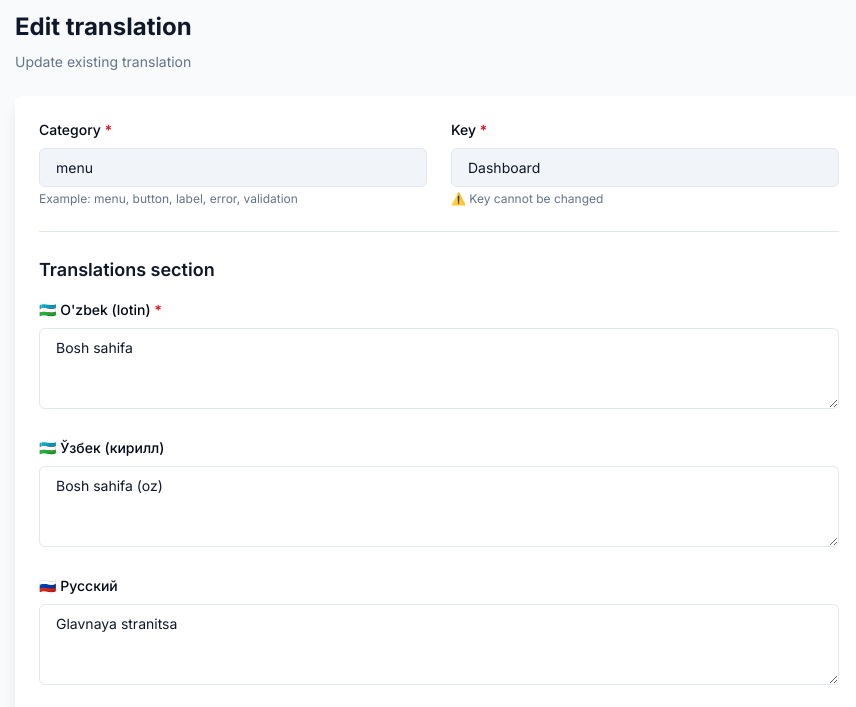
Test case: TranslationFormPage › clears similar translations when text is emptied
// Type text to trigger similar search
Replace the text in the text box with placeholder "Primary text (uz-UZ)" with "Bosh sahifa qis" at x=439, y=368, box [39,328,839,409]
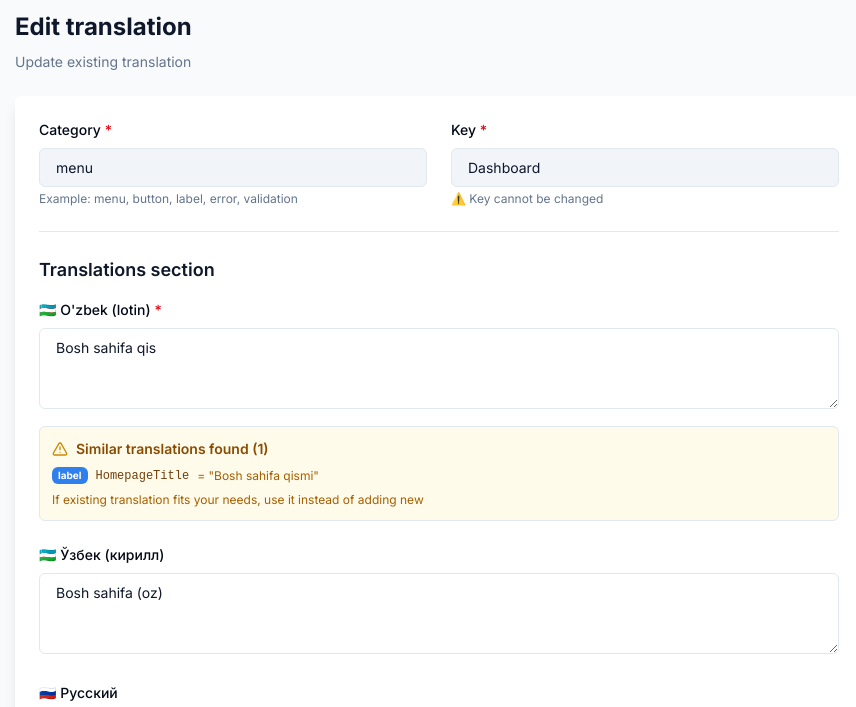
expect the text "Similar translations found (1)" is shown: met, box [76,439,268,459]
// Clear the text
Clear the text box with placeholder "Primary text (uz-UZ)" at x=439, y=368, box [39,328,839,409]
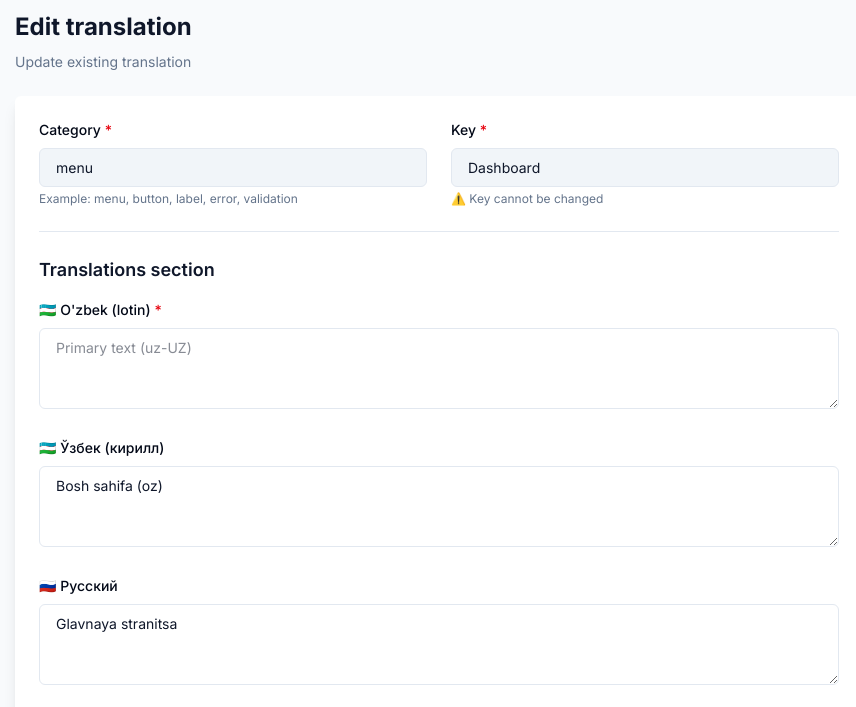
expect the text "Similar translations found" is gone: met
